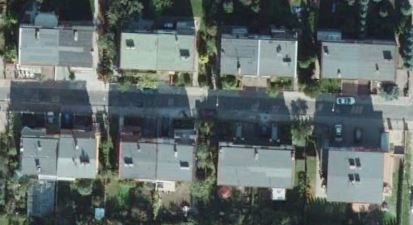family house: (14, 133, 99, 180), (113, 137, 198, 184), (212, 143, 297, 190), (316, 37, 400, 81), (217, 35, 301, 79), (116, 30, 200, 74), (13, 25, 97, 69), (323, 147, 386, 205)
